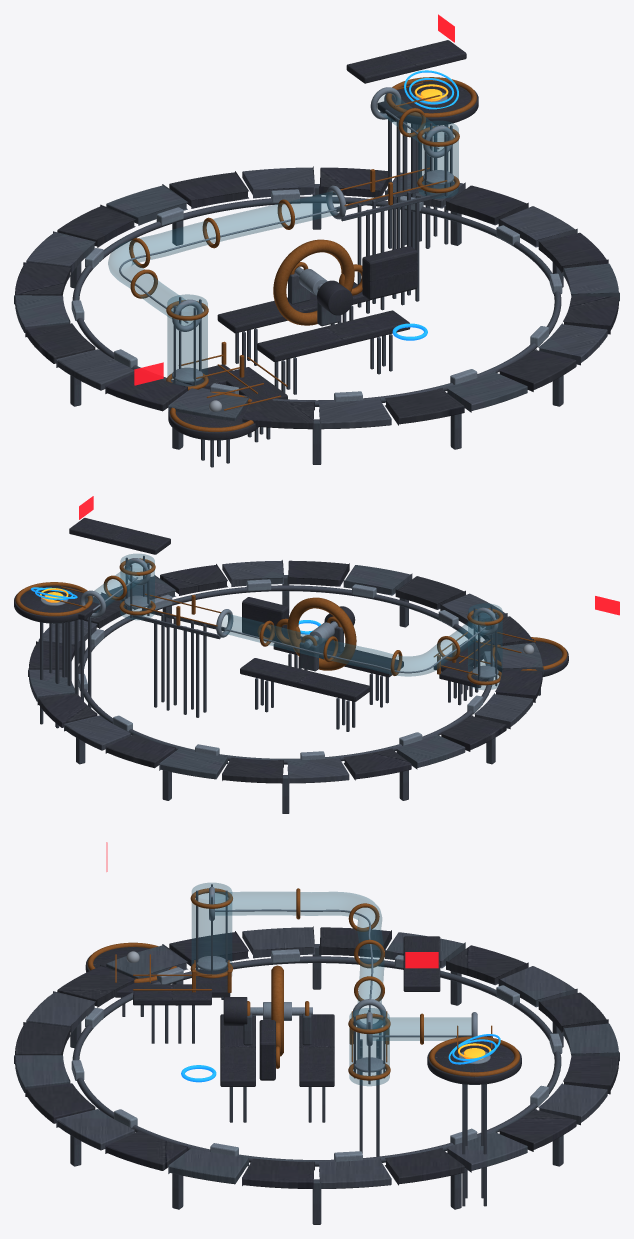
File: level06_orbital_mechanism_v2_low.glb
3 renders of one model, top to bottom at view 1: azimuth 30°, elevation 25°; view 2: azimuth 150°, elevation 25°; view 3: azimuth 270°, elevation 25°, orthographic. The views are drawn at different scales.
Visible parts, largest first — view 1: T01_GlassShell, R01_InnerStructuralBelt, L01_SafetyGlass, M01_ServiceDeck_South, L02_SafetyGlass, B04_Movable, M01_GearboxHousing, M01_Rotor_Rim, R01_Segment_17, R01_Segment_05, R01_Segment_18, R01_Segment_16 (+28 smaller); view 2: T01_GlassShell, R01_InnerStructuralBelt, L01_SafetyGlass, M01_ServiceDeck_North, B04_Movable, M01_Rotor_Rim, L02_SafetyGlass, R01_Segment_06, R01_Segment_09, R01_Segment_19, R01_Segment_10, R01_Segment_05 (+29 smaller); view 3: T01_GlassShell, R01_InnerStructuralBelt, L01_SafetyGlass, L02_SafetyGlass, M01_ServiceDeck_North, M01_ServiceDeck_South, T02_GlassShell, P02_Deck, R01_Segment_22, R01_Segment_01, R01_Segment_21, R01_Segment_23 (+31 smaller).
Boxes of the visible parts, x1,y1,x2,y2 form: T01_GlassShell: [108, 192, 339, 325]; R01_InnerStructuralBelt: [72, 196, 561, 406]; L01_SafetyGlass: [167, 294, 207, 386]; M01_ServiceDeck_South: [257, 310, 410, 361]; L02_SafetyGlass: [418, 121, 458, 198]; B04_Movable: [346, 40, 466, 83]; M01_GearboxHousing: [362, 246, 417, 299]; M01_Rotor_Rim: [273, 239, 354, 325]; R01_Segment_17: [385, 387, 464, 425]; R01_Segment_05: [169, 171, 248, 208]; R01_Segment_18: [446, 371, 527, 412]; R01_Segment_16: [319, 398, 391, 430]; T01_GlassShell: [222, 613, 492, 676]; R01_InnerStructuralBelt: [78, 585, 493, 764]; L01_SafetyGlass: [468, 603, 502, 689]; M01_ServiceDeck_North: [240, 658, 370, 701]; B04_Movable: [69, 518, 170, 554]; M01_Rotor_Rim: [287, 597, 356, 670]; L02_SafetyGlass: [120, 554, 154, 619]; R01_Segment_06: [159, 748, 227, 779]; R01_Segment_09: [343, 748, 411, 780]; R01_Segment_19: [287, 560, 349, 586]; R01_Segment_10: [395, 734, 465, 769]; R01_Segment_05: [105, 734, 175, 768]; T01_GlassShell: [215, 892, 383, 1008]; R01_InnerStructuralBelt: [72, 956, 561, 1166]; L01_SafetyGlass: [192, 883, 231, 975]; L02_SafetyGlass: [349, 1008, 389, 1085]; M01_ServiceDeck_North: [299, 1014, 334, 1086]; M01_ServiceDeck_South: [220, 1014, 255, 1086]; T02_GlassShell: [373, 1017, 471, 1040]; P02_Deck: [427, 1042, 521, 1083]; R01_Segment_22: [168, 1148, 248, 1184]; R01_Segment_01: [385, 1147, 464, 1185]; R01_Segment_21: [105, 1131, 187, 1170]; R01_Segment_23: [242, 1158, 314, 1188].
Bounding box in the file's own units: 48.34 × 20.48 × 46.14.
9 materials, 4 textured.
